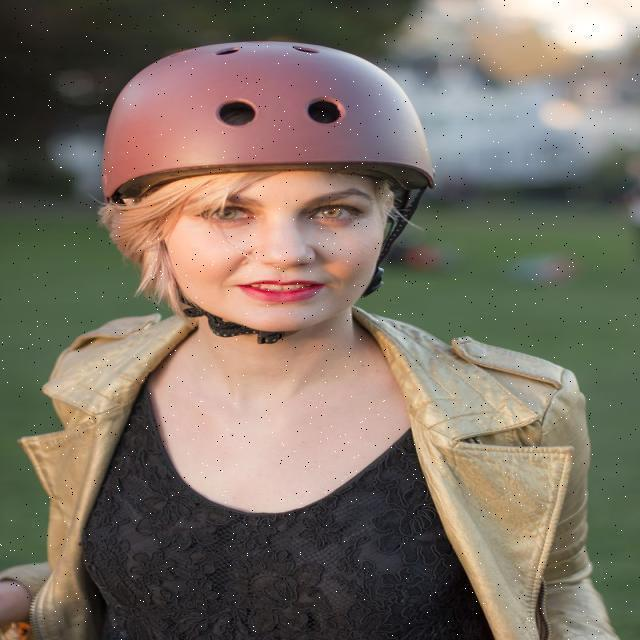helmet: (104, 44, 436, 342)
